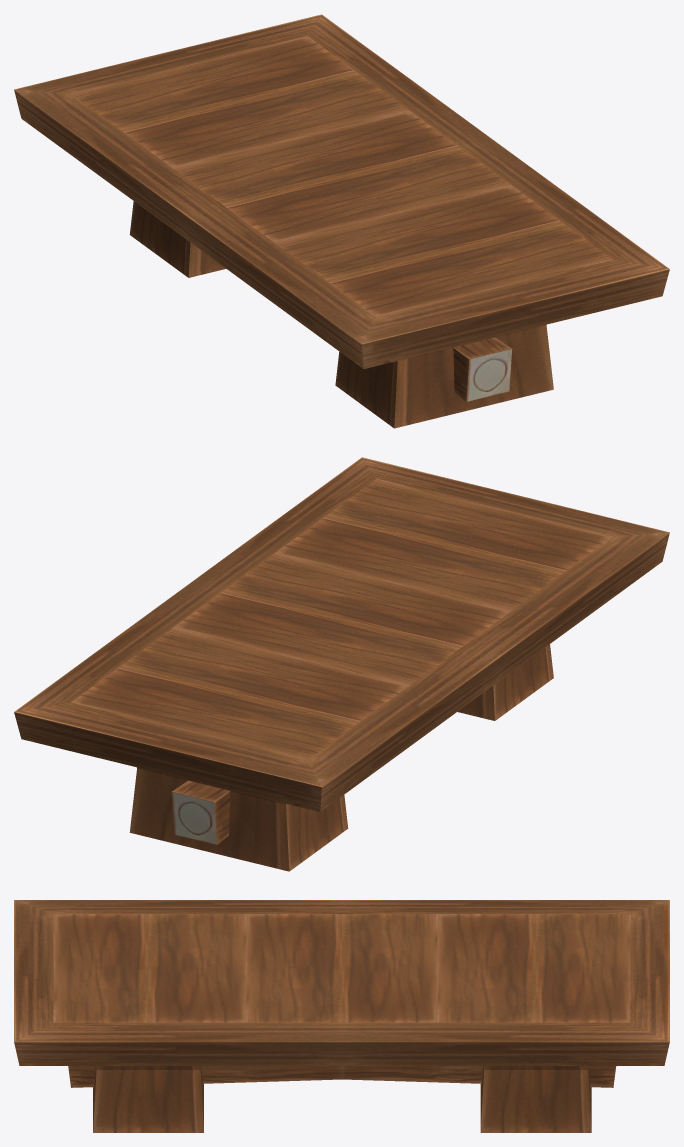
The model's file is dwarventablesimple05.obj.
3 renders of one model, top to bottom at view 1: azimuth 30°, elevation 25°; view 2: azimuth 150°, elevation 25°; view 3: azimuth 270°, elevation 25°, orthographic. The views are drawn at different scales.
Visible parts, largest first — view 1: dwarventablesimple05; view 2: dwarventablesimple05; view 3: dwarventablesimple05.
Boxes of the visible parts, bbox=[...] form: dwarventablesimple05: bbox=[14, 14, 669, 428]; dwarventablesimple05: bbox=[14, 457, 669, 871]; dwarventablesimple05: bbox=[14, 900, 669, 1132].
Bounding box in the file's own units: 2.16 × 0.9105 × 4.23.
1 material, 1 textured.
